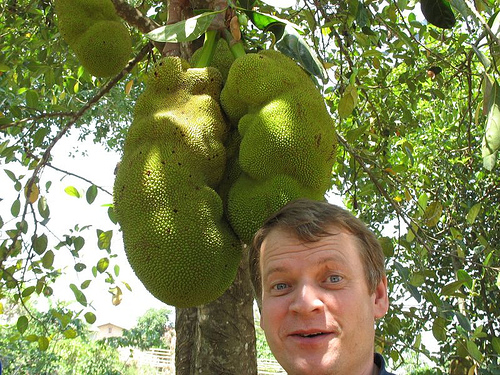jackfruit: (113, 57, 244, 305), (220, 49, 339, 246), (51, 0, 132, 78)
